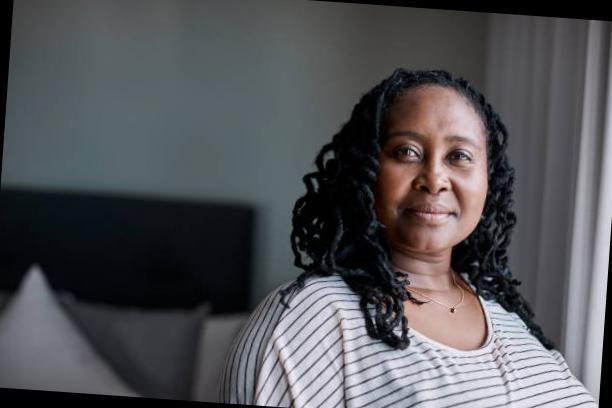Sober: (371, 88, 481, 247)
